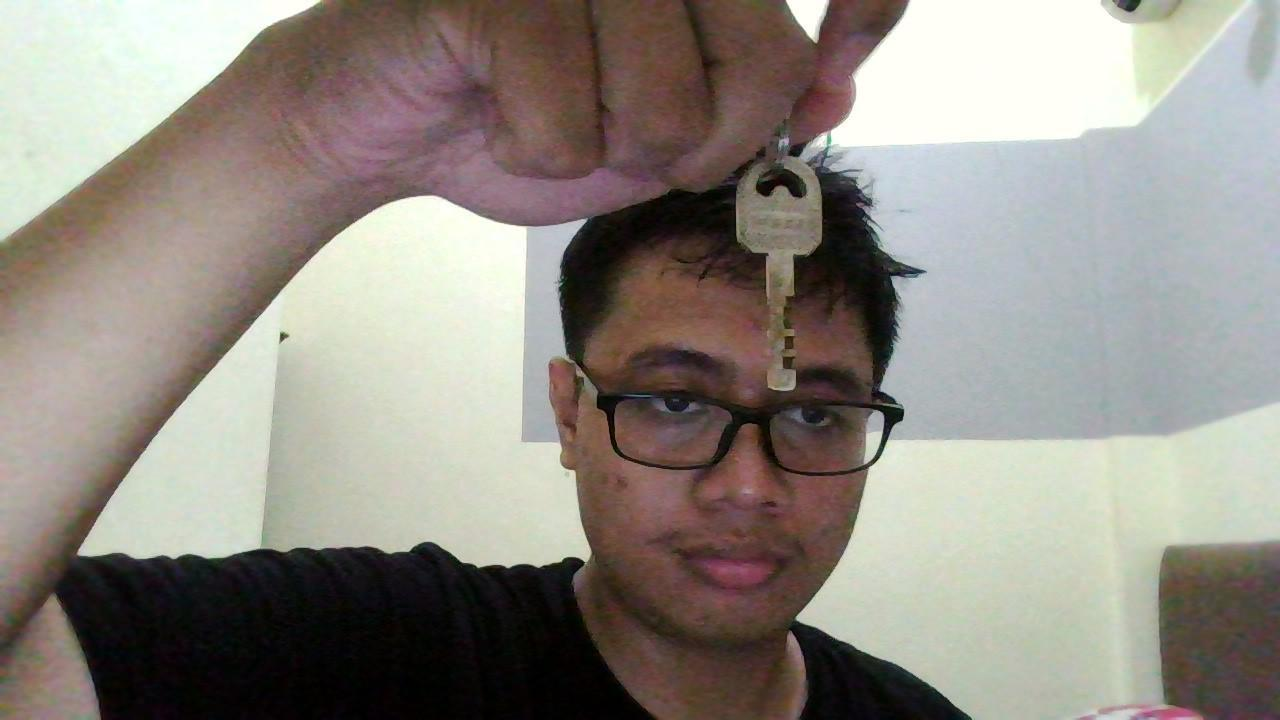keys: (733, 133, 828, 400)
